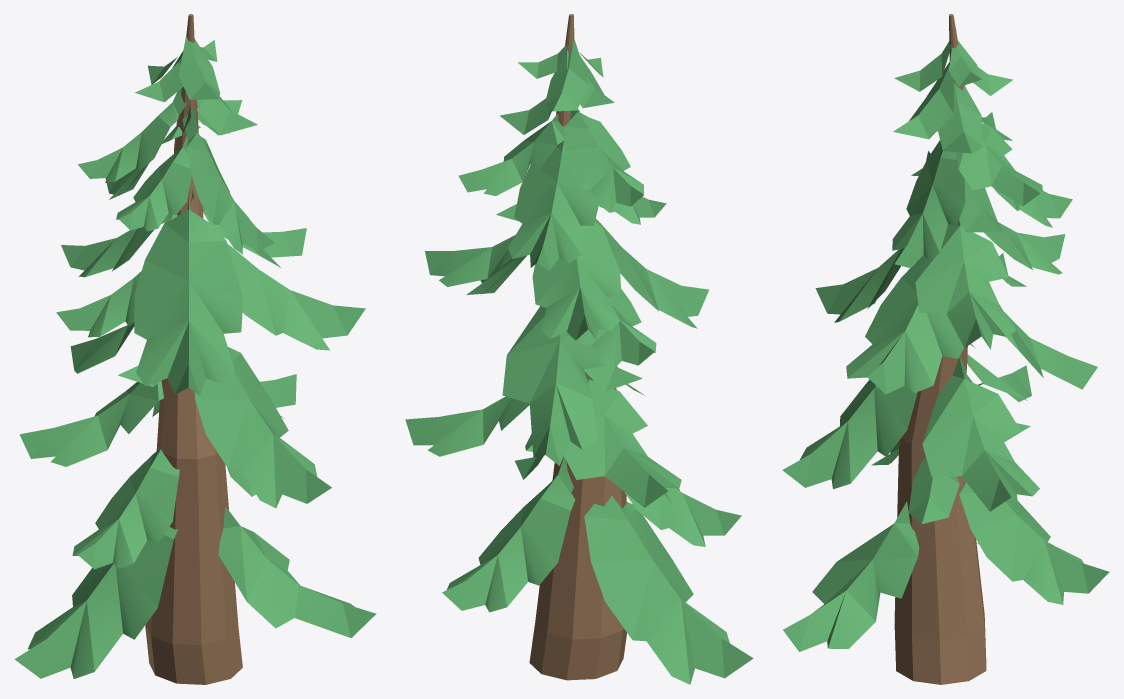
File: Pine_model_B_(4)_instanced_l1_34212.glb
3 views of the same model, side by side, from view 1: azimuth 30°, elevation 25°; view 2: azimuth 150°, elevation 25°; view 3: azimuth 270°, elevation 25° (orthographic).
Parts seen in each view (by area): view 1: 02_Leaves, 01_Trunk; view 2: 02_Leaves, 01_Trunk; view 3: 02_Leaves, 01_Trunk.
Part boxes in pixels (<box>): 02_Leaves: <box>14,33,376,678</box>; 01_Trunk: <box>145,14,242,684</box>; 02_Leaves: <box>405,38,753,684</box>; 01_Trunk: <box>529,14,626,680</box>; 02_Leaves: <box>782,29,1109,651</box>; 01_Trunk: <box>894,14,986,684</box>.
Size of the model in its own units: 5.09 by 10 by 4.57.
